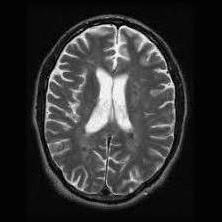Normal_Brain: (1, 1, 187, 222)
